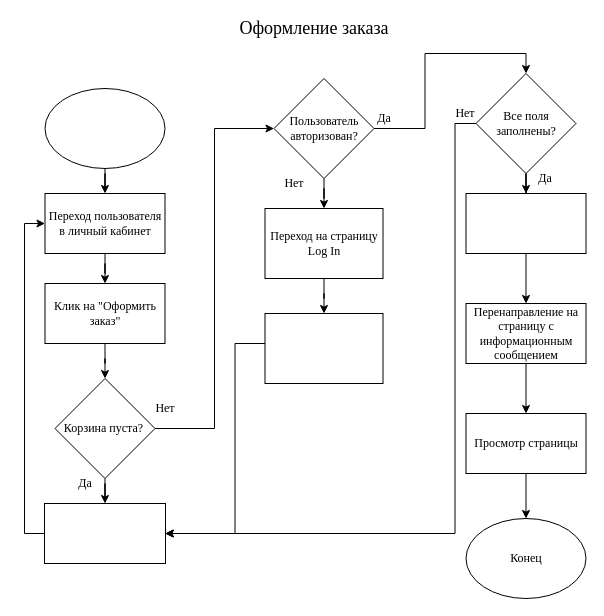
Image size: 604x616. Some labels were removed from this diagram. Here are the shapes that lost their labels. From the top down, the centre of each, then its label:
the point at 104,128: Начало
the point at 525,223: Сохранение информации в базу данных
the point at 323,348: Выполнение последовательности для входа
the point at 105,533: Показываем уведомление
